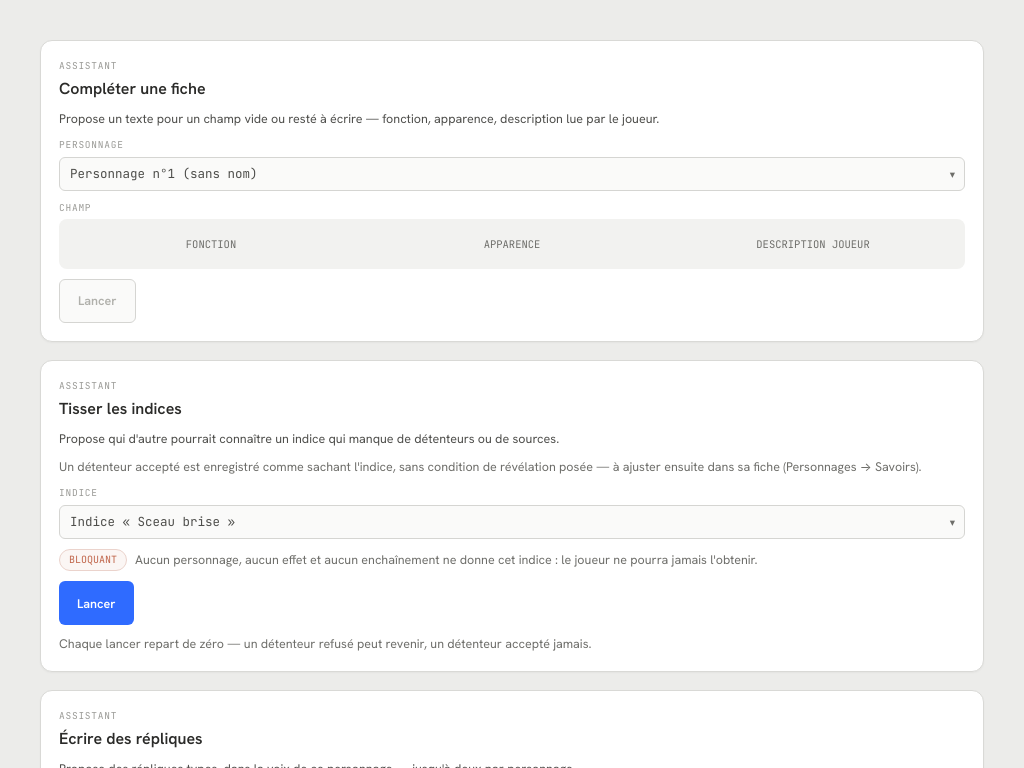
Test: detenteurs - acceptation › reference orpheline par course : indice supprime avant l acceptation, rien persiste, anomalies rendues
This screenshot has width=1024, height=768.
Click the button "Lancer" below "BLOQUANT": (96, 603) [59, 581, 134, 625]
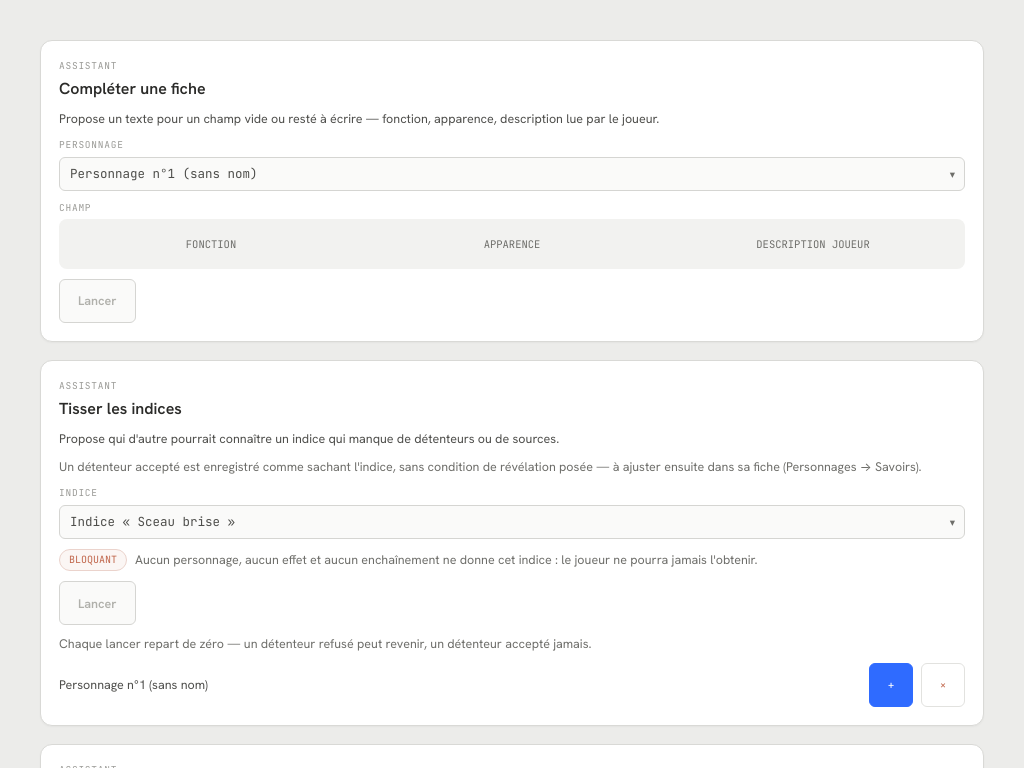
Result: the button named "Accepter la proposition" is shown
Click the button named "Accepter la proposition": (891, 686) [869, 664, 913, 708]
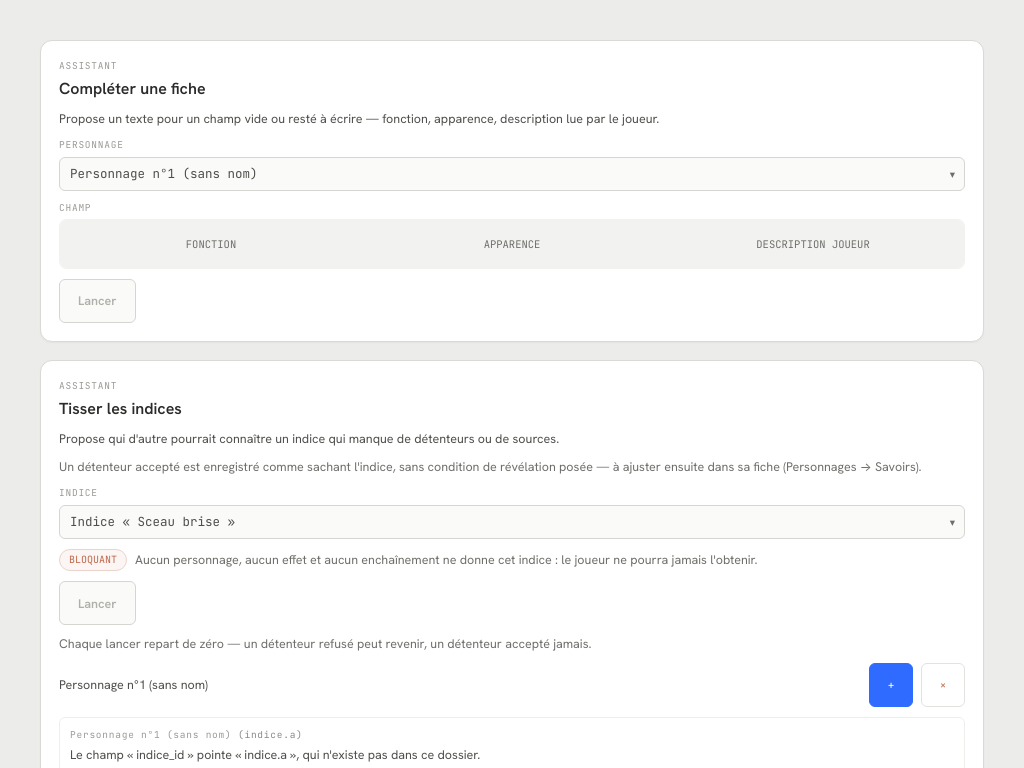
Result: the button named "Accepter la proposition" is shown at [869, 664, 913, 708]
Result: the text "n'existe pas dans ce dossier" is shown at [70, 746, 480, 763]
